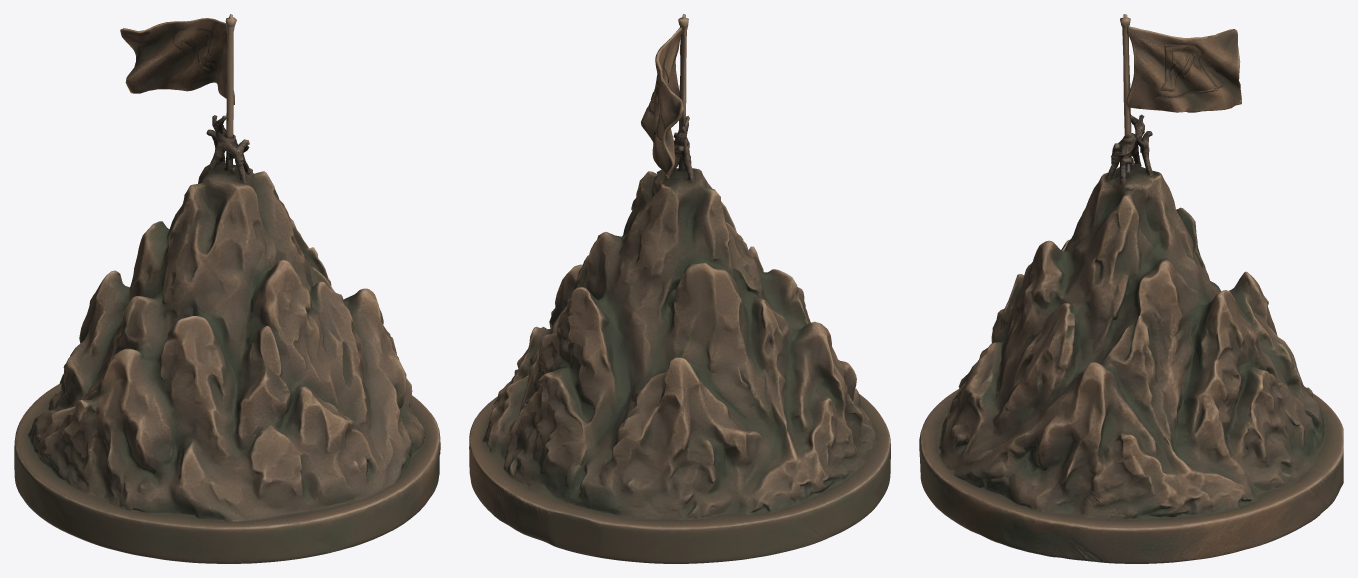
File: mountain.glb
The picture shows the model from 3 angles, left to right: view 1: azimuth 30°, elevation 25°; view 2: azimuth 150°, elevation 25°; view 3: azimuth 270°, elevation 25°; orthographic projection.
Parts seen in each view (by area): view 1: tripo_node_39f3631a-3bef-485b-91ab-894511f23897; view 2: tripo_node_39f3631a-3bef-485b-91ab-894511f23897; view 3: tripo_node_39f3631a-3bef-485b-91ab-894511f23897.
Boxes of the visible parts, box(x1,y1,x2,y2) form: tripo_node_39f3631a-3bef-485b-91ab-894511f23897: box(14, 14, 440, 563); tripo_node_39f3631a-3bef-485b-91ab-894511f23897: box(469, 14, 890, 563); tripo_node_39f3631a-3bef-485b-91ab-894511f23897: box(919, 14, 1343, 563).
Bounding box in the file's own units: 0.8133 × 0.9726 × 0.8113.
Materials: 1 (1 with a texture image).
